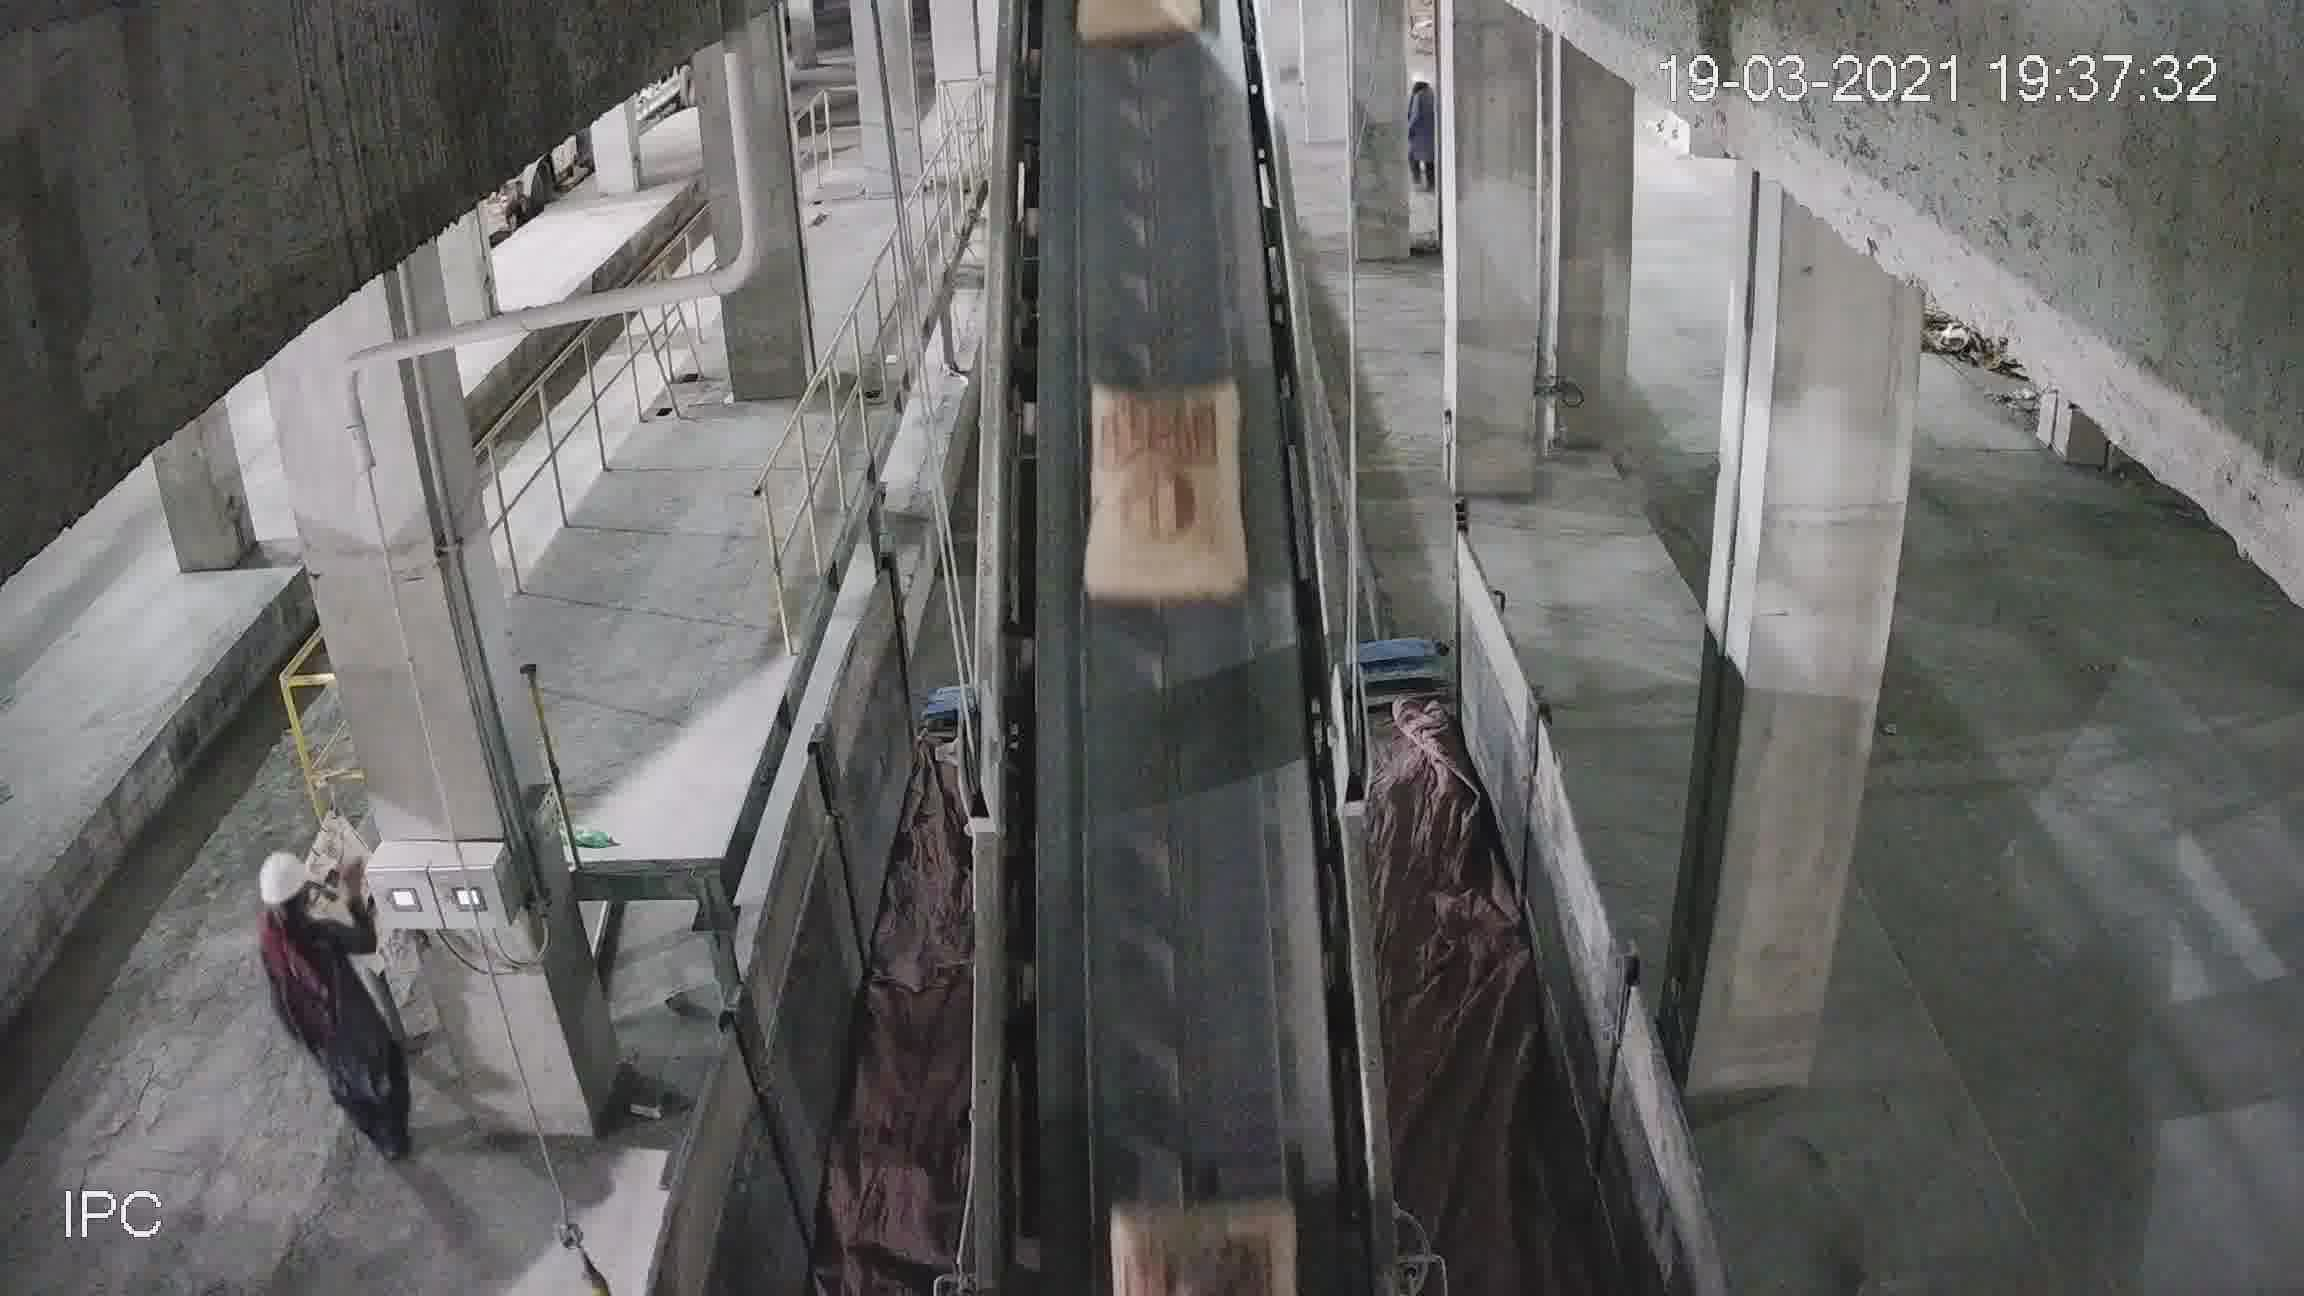bag: (1082, 377, 1250, 616)
belt: (978, 44, 1355, 1173)
